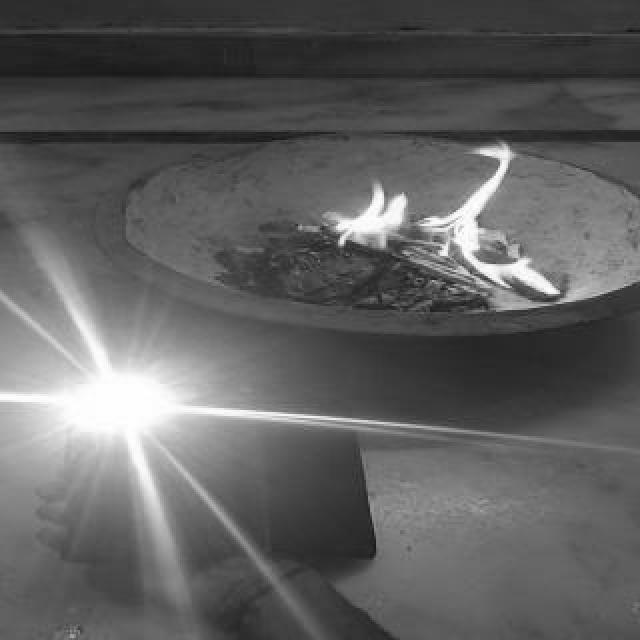fire: (318, 152, 570, 300)
